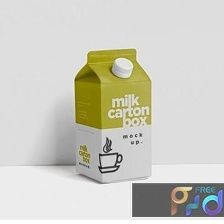carton: (71, 46, 156, 187)
